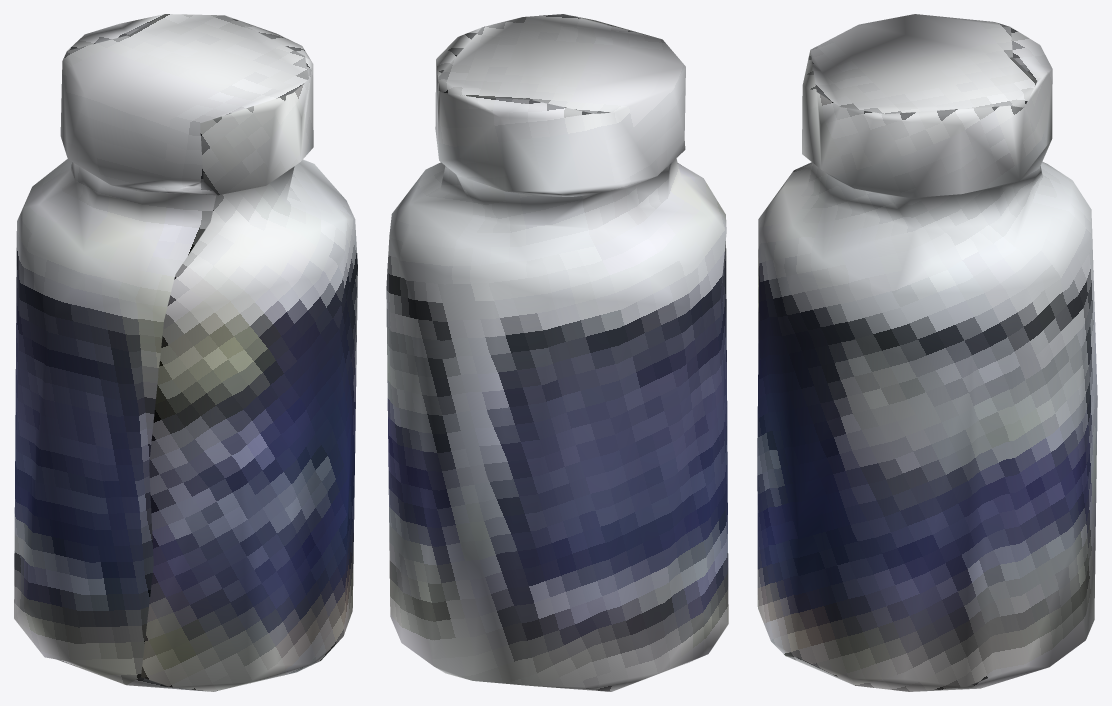
Rendered from Beta_Glucan-low.glb.
The picture shows the model from 3 angles, left to right: view 1: azimuth 30°, elevation 25°; view 2: azimuth 150°, elevation 25°; view 3: azimuth 270°, elevation 25°; orthographic projection.
Parts seen in each view (by area): view 1: Beta_Glucan; view 2: Beta_Glucan; view 3: Beta_Glucan.
Part boxes in pixels (x1=…): Beta_Glucan: x1=14, y1=14, x2=357, y2=691; Beta_Glucan: x1=386, y1=14, x2=728, y2=691; Beta_Glucan: x1=757, y1=14, x2=1097, y2=691.
Size of the model in its own units: 0.054 by 0.0974 by 0.0531.
1 material, 1 textured.
